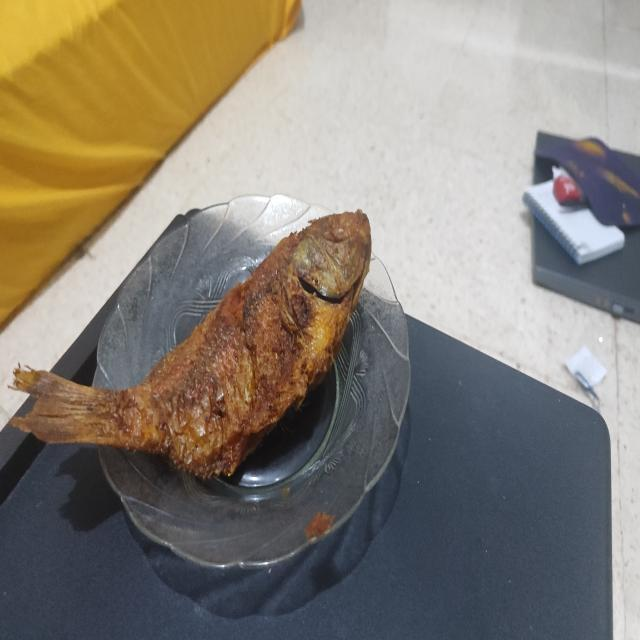ikan_mujair: (11, 210, 371, 478)
